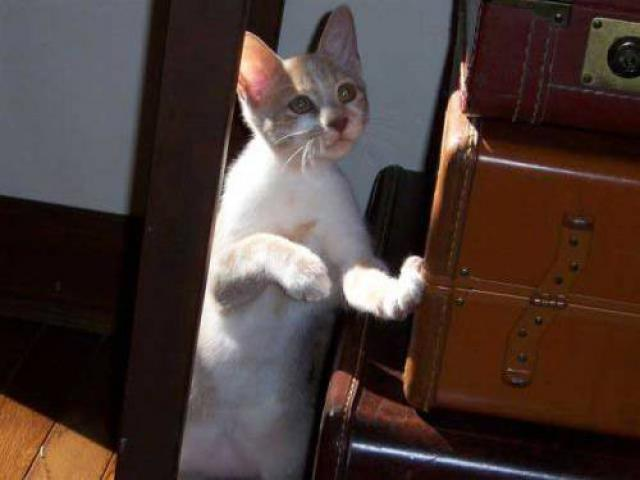cat: (180, 9, 423, 457)
